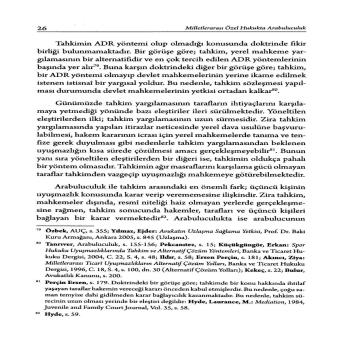footer: (41, 226, 311, 318)
header: (182, 23, 308, 31)
